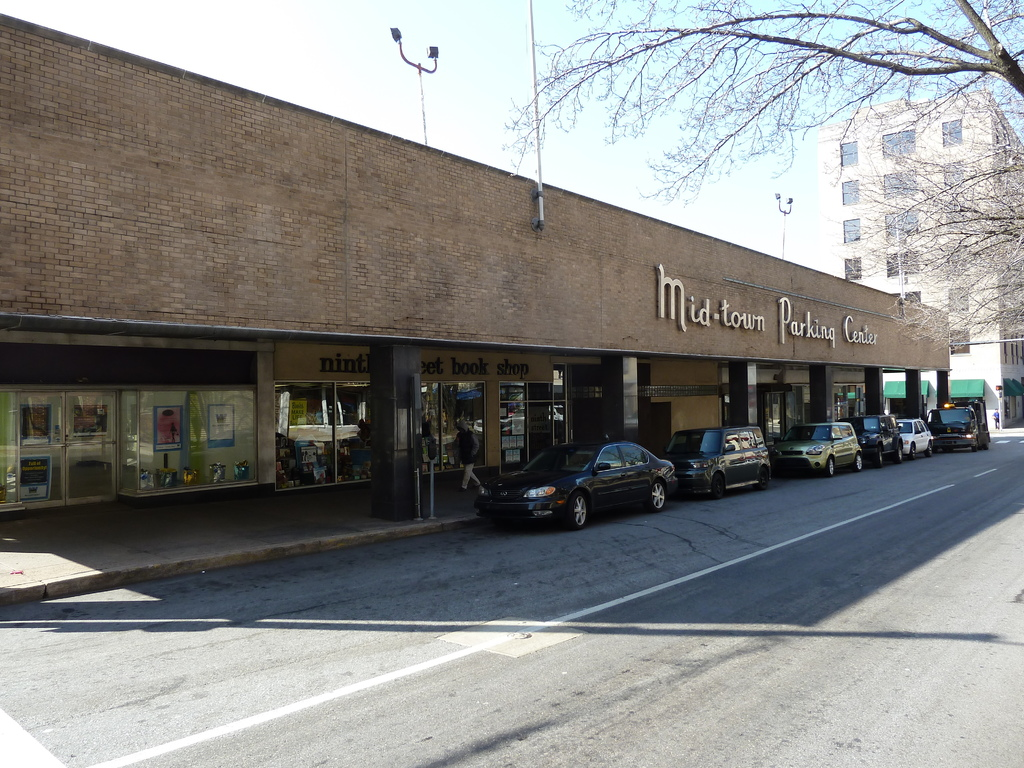Car: (498, 418, 690, 533), (677, 421, 766, 503), (768, 408, 866, 468), (861, 407, 945, 456), (924, 398, 990, 456)
